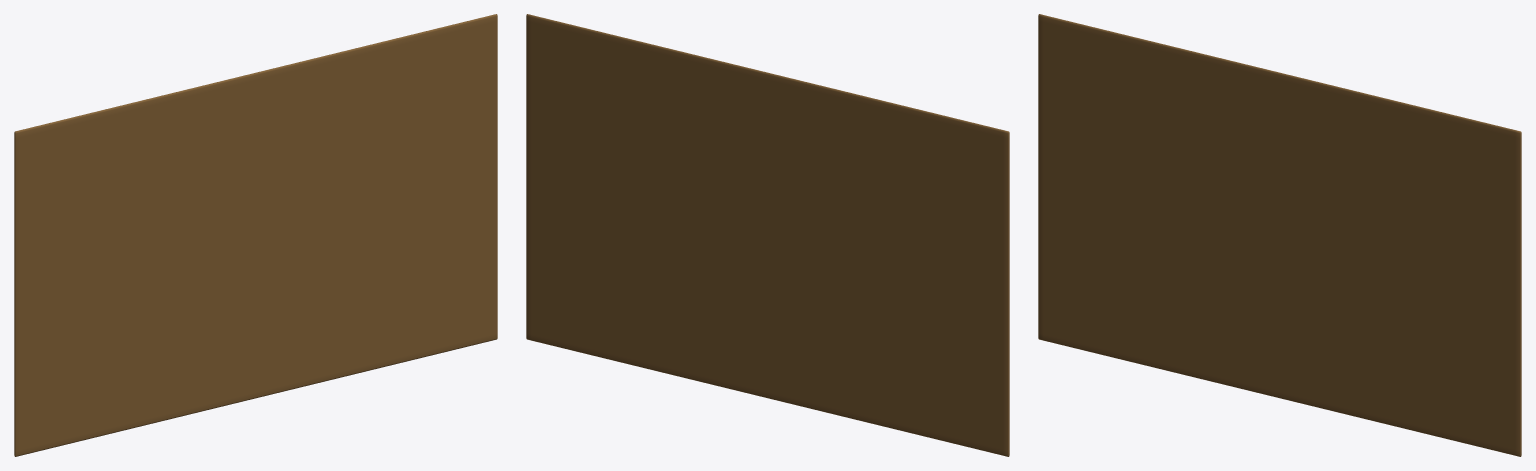
The model's file is Rug.fbx.
3 renders of one model, left to right at view 1: azimuth 30°, elevation 25°; view 2: azimuth 150°, elevation 25°; view 3: azimuth 330°, elevation 25°, orthographic.
Parts seen in each view (by area): view 1: set_598; view 2: set_598; view 3: set_598.
Boxes of the visible parts, bbox=[...] form: set_598: bbox=[14, 14, 497, 456]; set_598: bbox=[526, 14, 1009, 456]; set_598: bbox=[1038, 14, 1521, 456].
Size of the model in its own units: 948 by 611 by 4.23.
